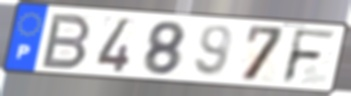4: (95, 16, 133, 74)
7: (242, 23, 289, 84)
8: (139, 19, 188, 77)
9: (193, 24, 235, 79)
B: (38, 12, 94, 71)
F: (279, 27, 340, 86)
